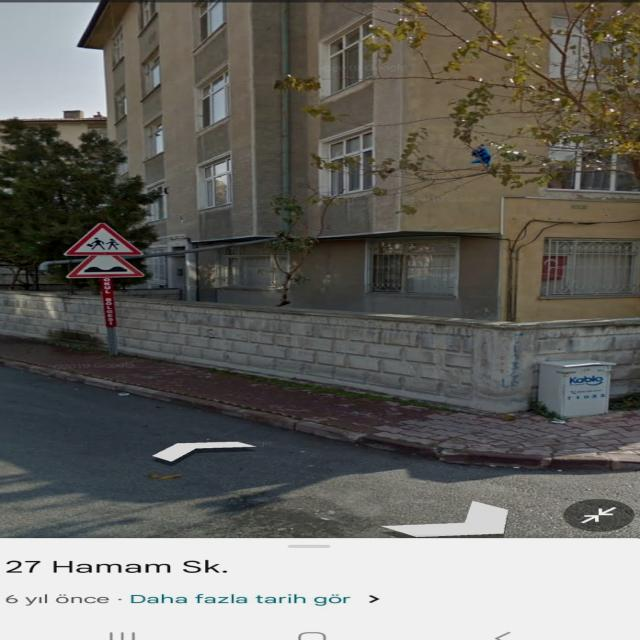okul_gecidi: (64, 222, 145, 256)
